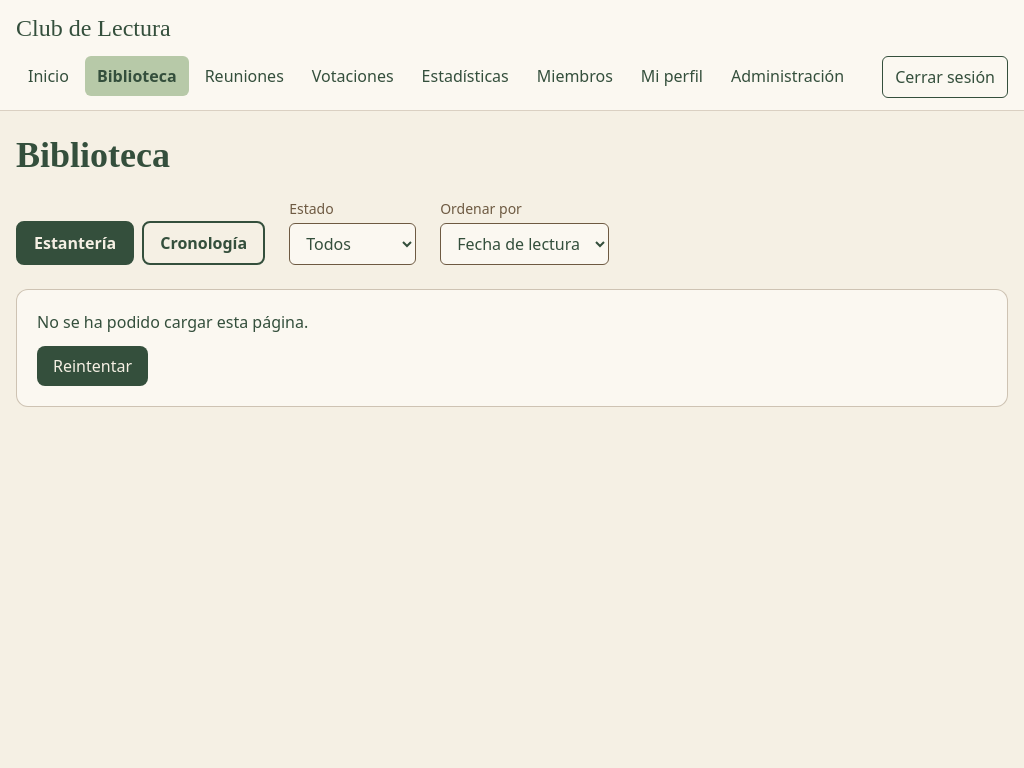
Biblioteca › offers a retry when the books cannot be loaded
The width and height of the screenshot is (1024, 768).
Click the button "Reintentar" at (92, 366), box [37,346,148,386]
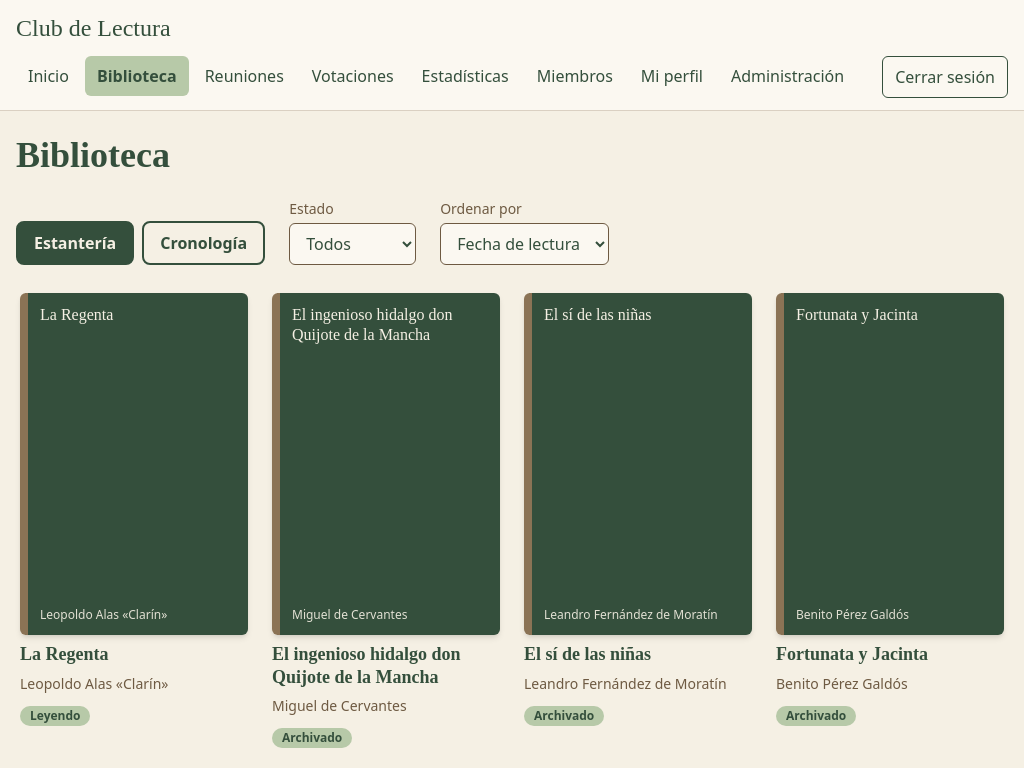
Check: the navigation bar named "Principal" is shown, box [16,56,856,96]
Check: the button "Reintentar" is gone
